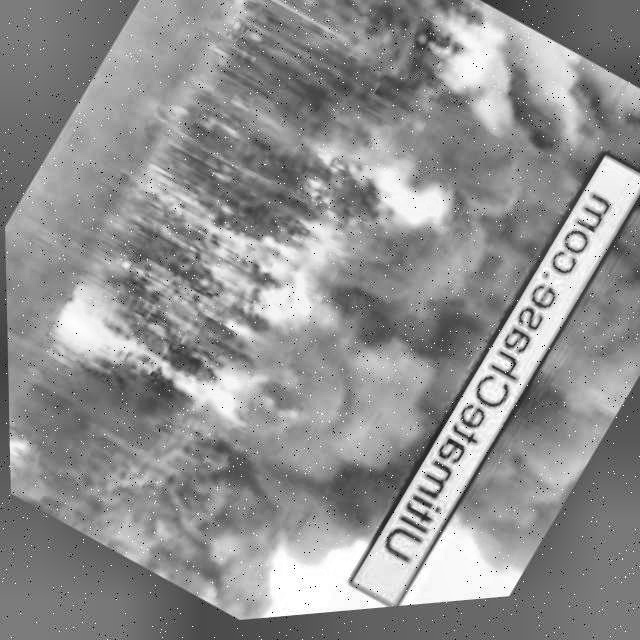Fire: (30, 147, 348, 471), (313, 117, 476, 260), (7, 418, 37, 491)
Smoke: (142, 3, 640, 630), (426, 129, 640, 595)
